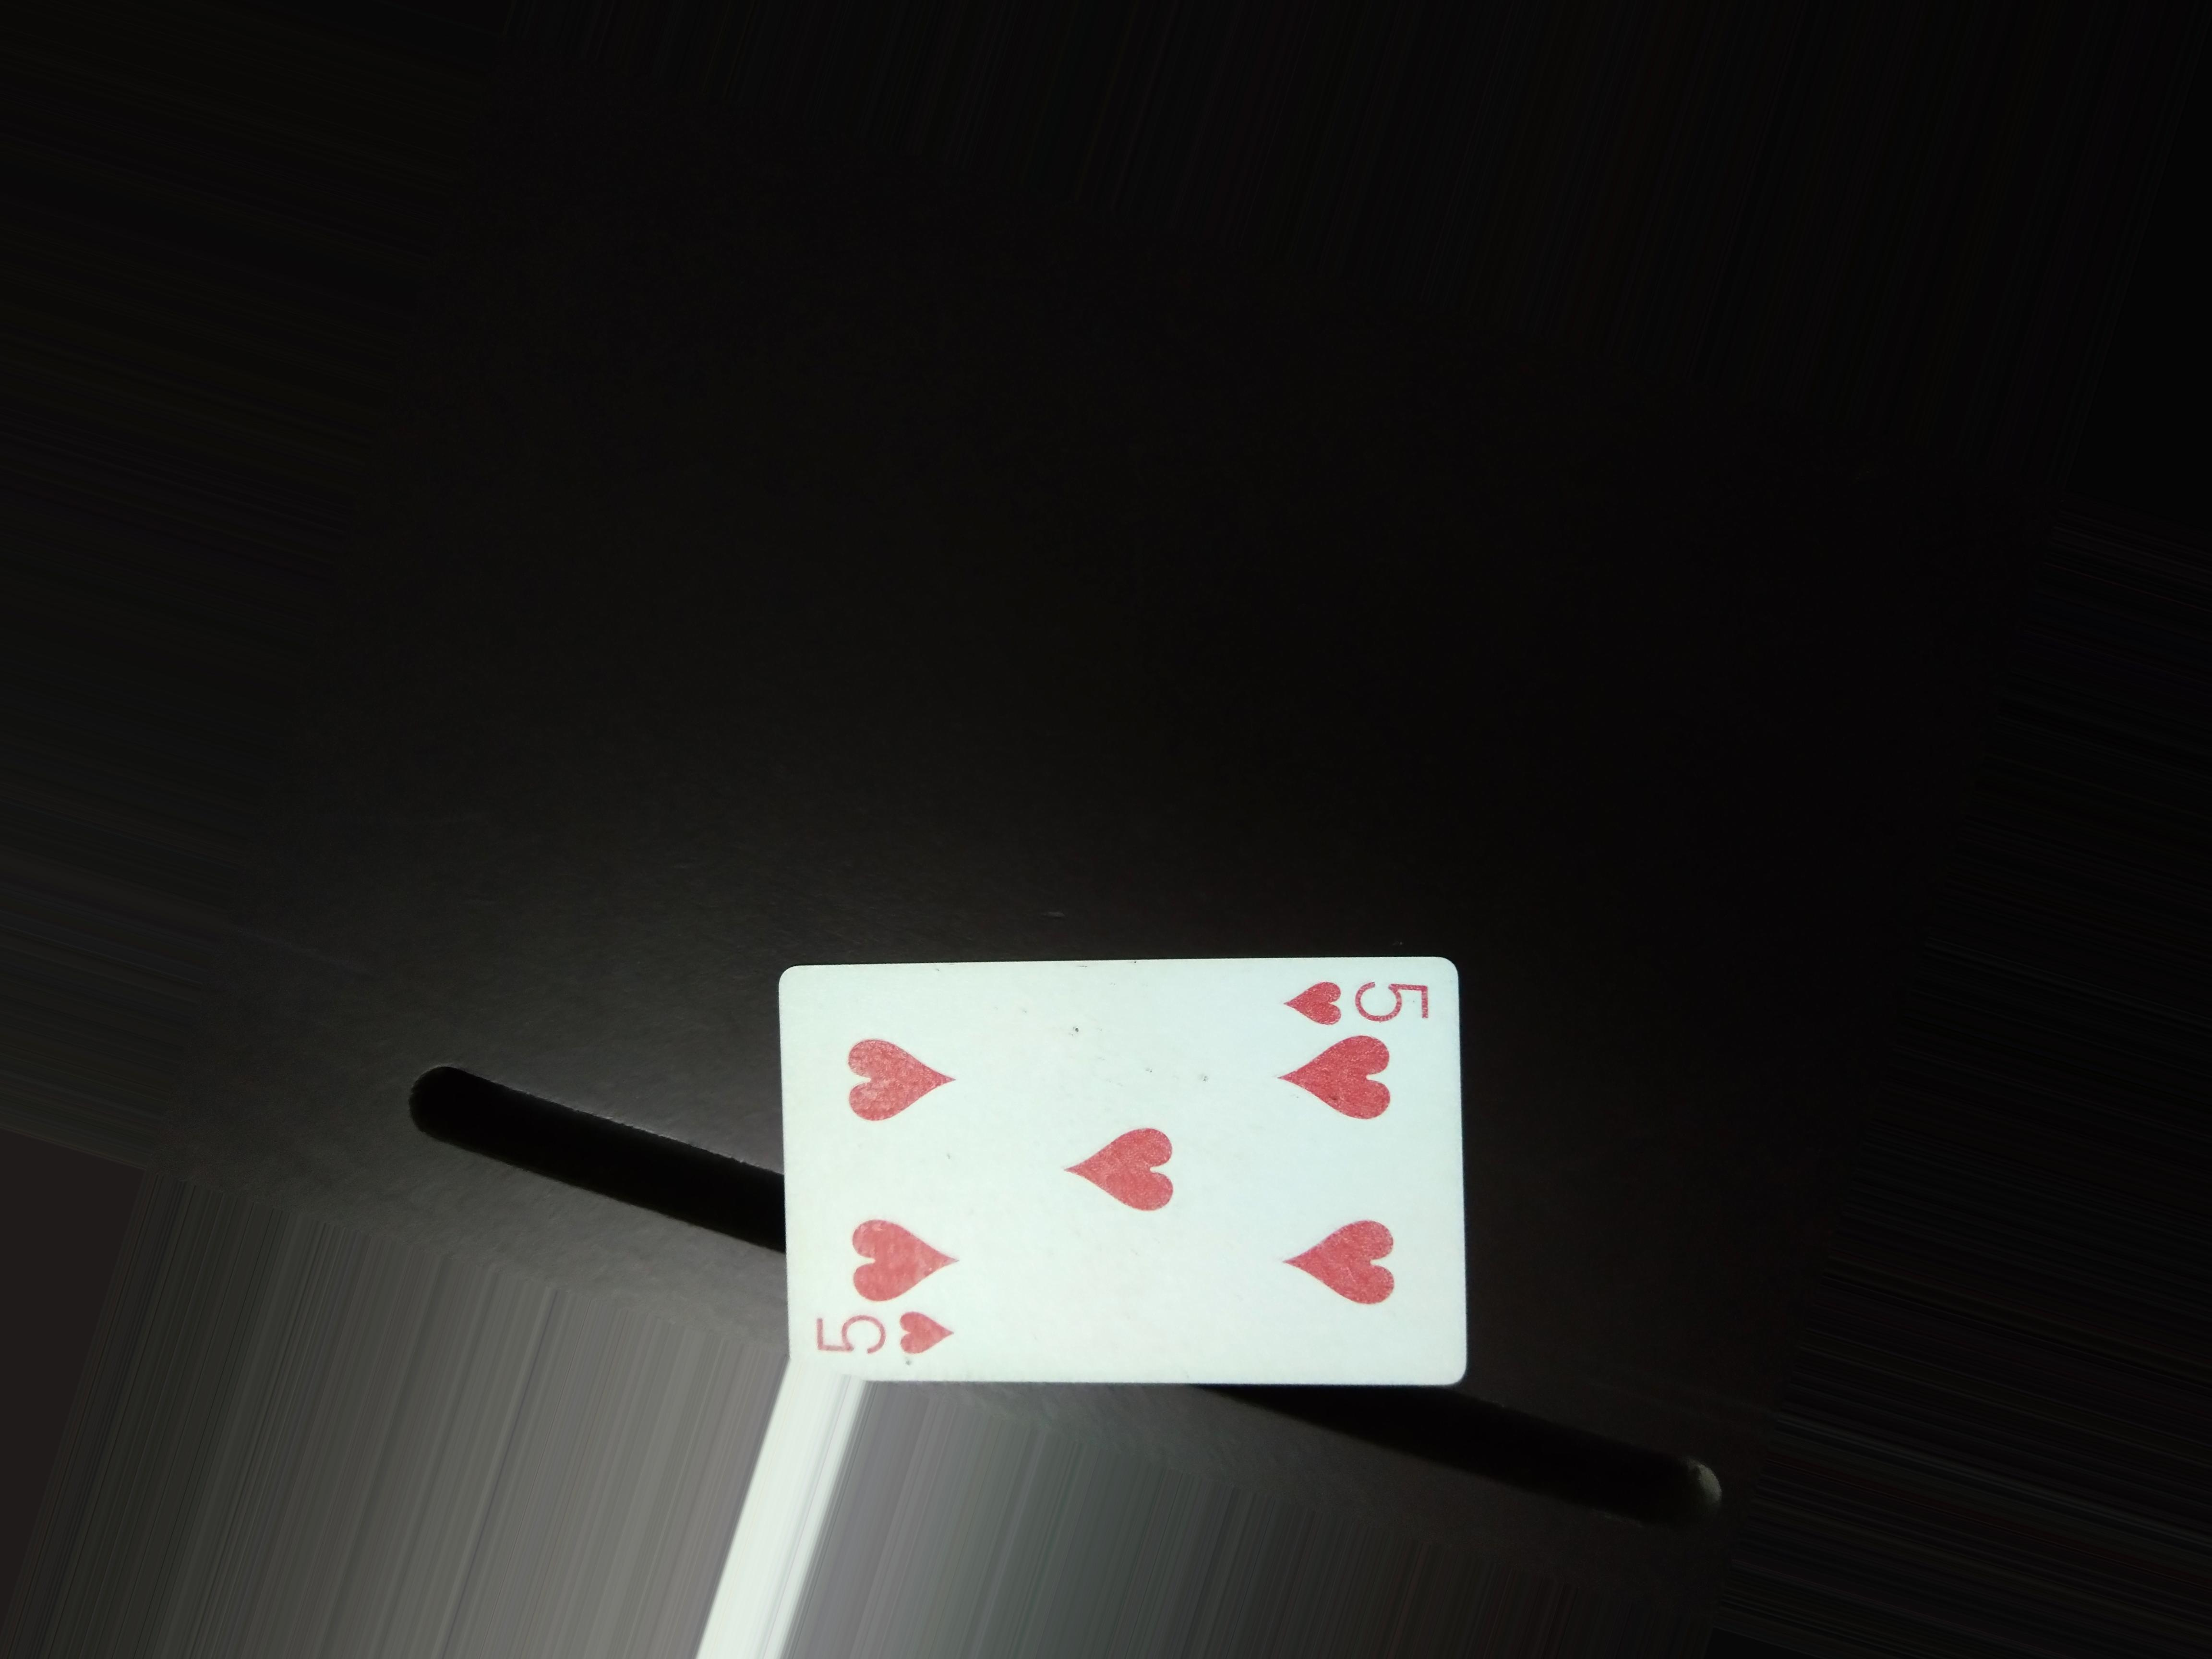5H: (1251, 972, 1456, 1033)
